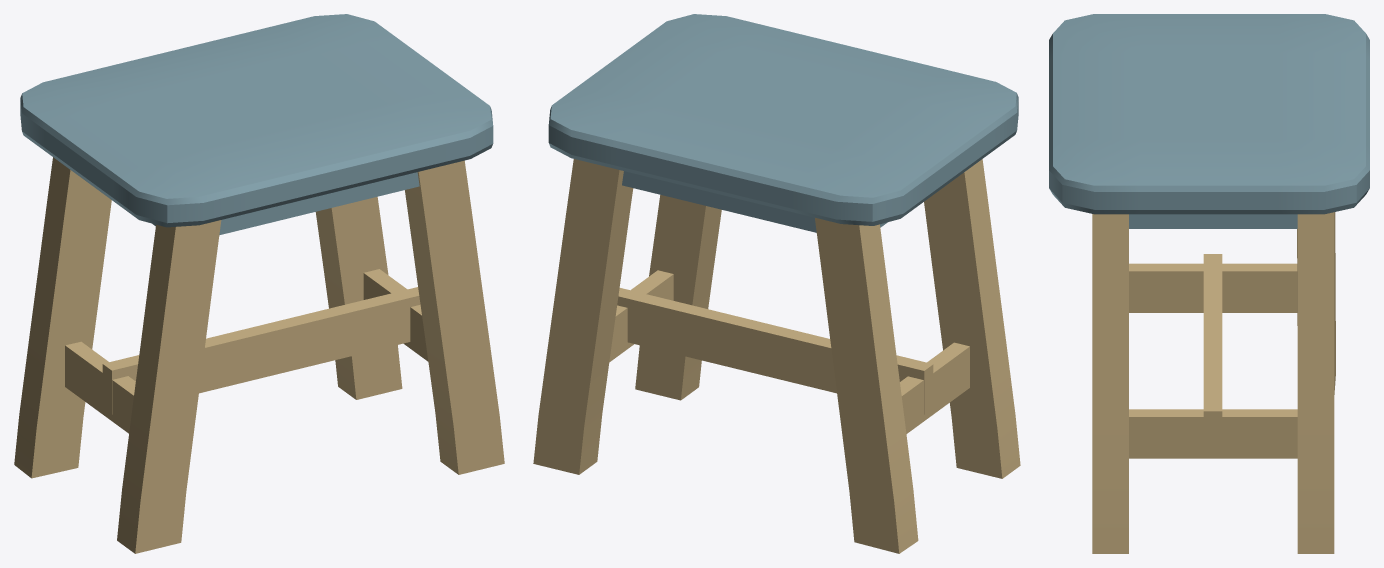
File: stool.fbx
3 renders of one model, left to right at view 1: azimuth 30°, elevation 25°; view 2: azimuth 150°, elevation 25°; view 3: azimuth 270°, elevation 25°, orthographic.
Parts seen in each view (by area): view 1: pCube25, pCube29, pCube26, pCube28, pCube32, pCube27, pCube31, pCube30; view 2: pCube25, pCube28, pCube27, pCube29, pCube32, pCube26, pCube31, pCube30; view 3: pCube25, pCube27, pCube26, pCube30, pCube31, pCube32, pCube28.
Part boxes in pixels (x1,y1,x2,y2): pCube25: [20, 14, 493, 235]; pCube29: [117, 220, 221, 553]; pCube26: [405, 160, 504, 474]; pCube28: [14, 157, 111, 478]; pCube32: [102, 287, 420, 414]; pCube27: [315, 196, 402, 399]; pCube31: [65, 341, 135, 433]; pCube30: [363, 269, 428, 361]; pCube25: [548, 14, 1018, 232]; pCube28: [815, 218, 918, 553]; pCube27: [533, 159, 633, 474]; pCube29: [924, 159, 1020, 478]; pCube32: [617, 288, 933, 414]; pCube26: [635, 195, 721, 400]; pCube31: [900, 342, 969, 433]; pCube30: [609, 270, 673, 362]; pCube25: [1049, 14, 1369, 228]; pCube27: [1297, 212, 1334, 553]; pCube26: [1092, 214, 1128, 553]; pCube30: [1129, 409, 1297, 458]; pCube31: [1129, 263, 1297, 312]; pCube32: [1203, 254, 1222, 455]; pCube28: [1297, 212, 1335, 394].
Bounding box in the file's own units: 95.24 × 89.66 × 71.41.
